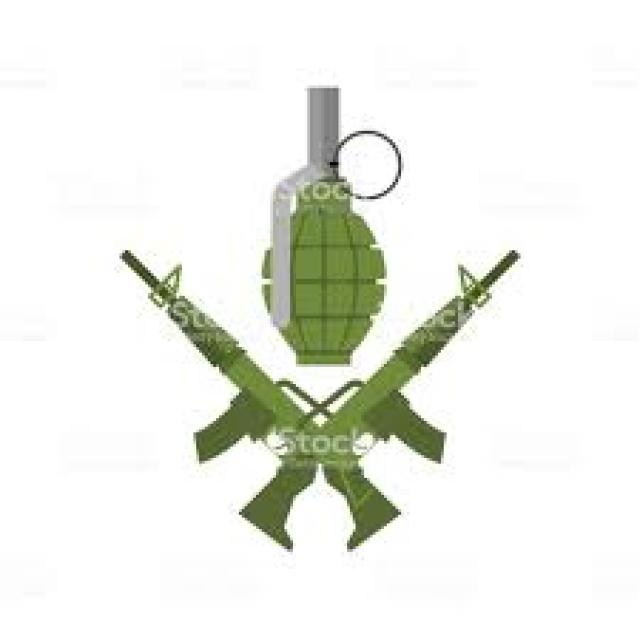grenade: (255, 82, 412, 373)
